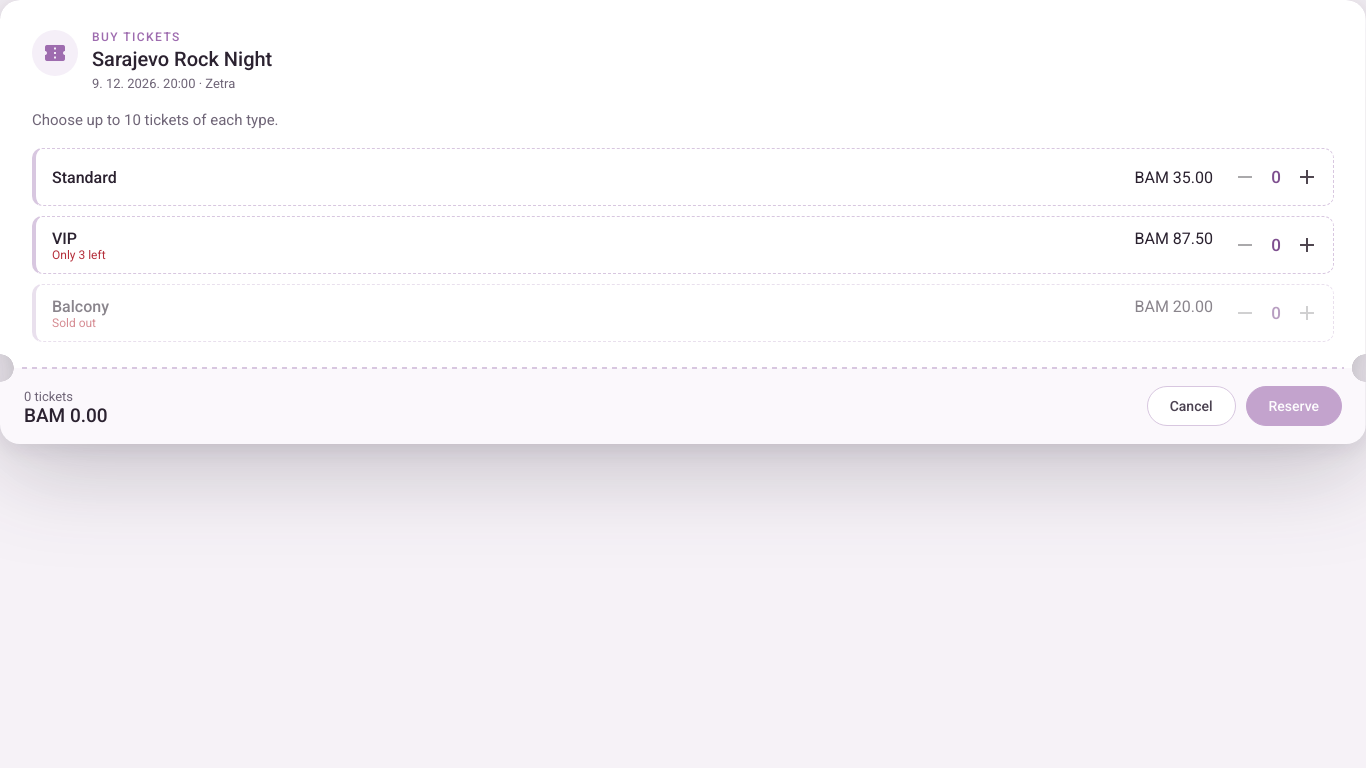
Test: BuyTicketsDialogComponent › shows a refusal, reloads the availability and trims the quantity to it
Click the button named "More VIP tickets" at (1307, 245), box [1287,225,1327,265]
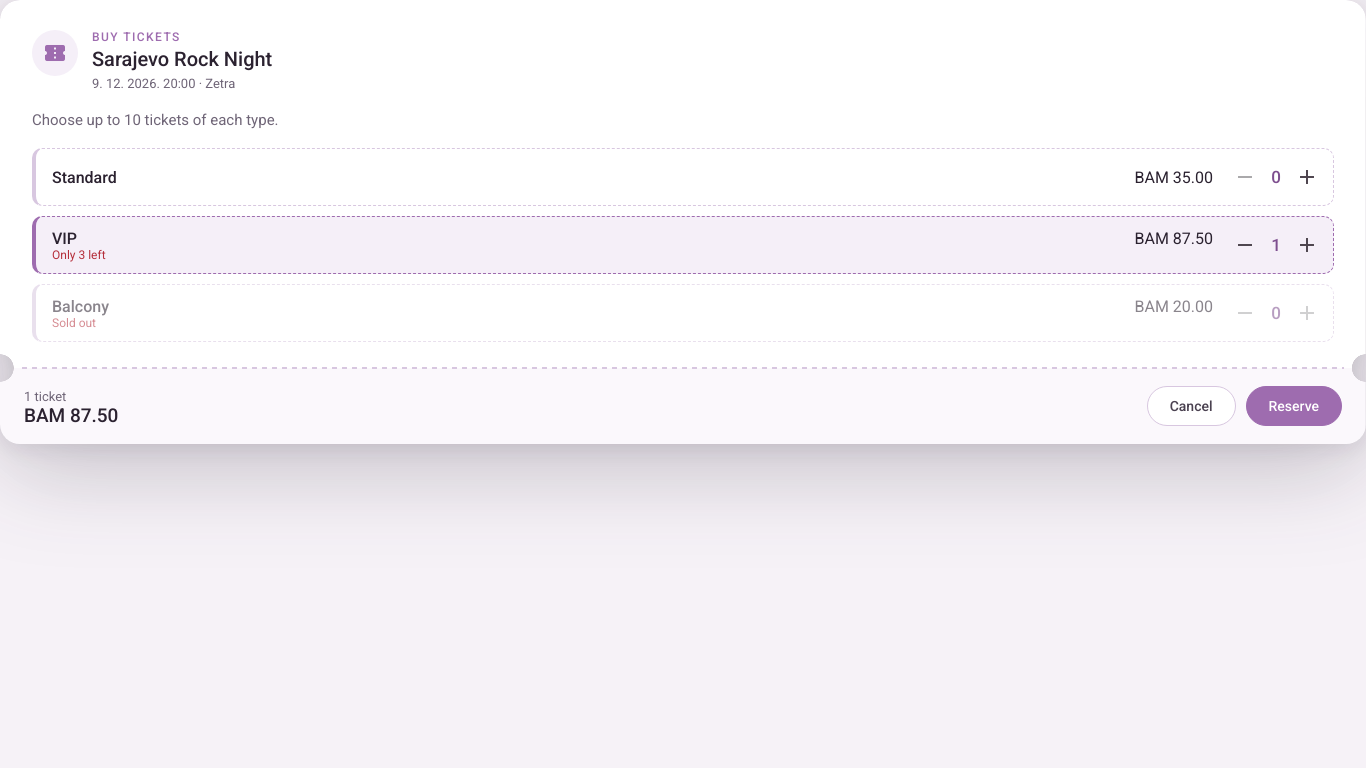
Click the button named "More VIP tickets" at (1307, 245), box [1287,225,1327,265]
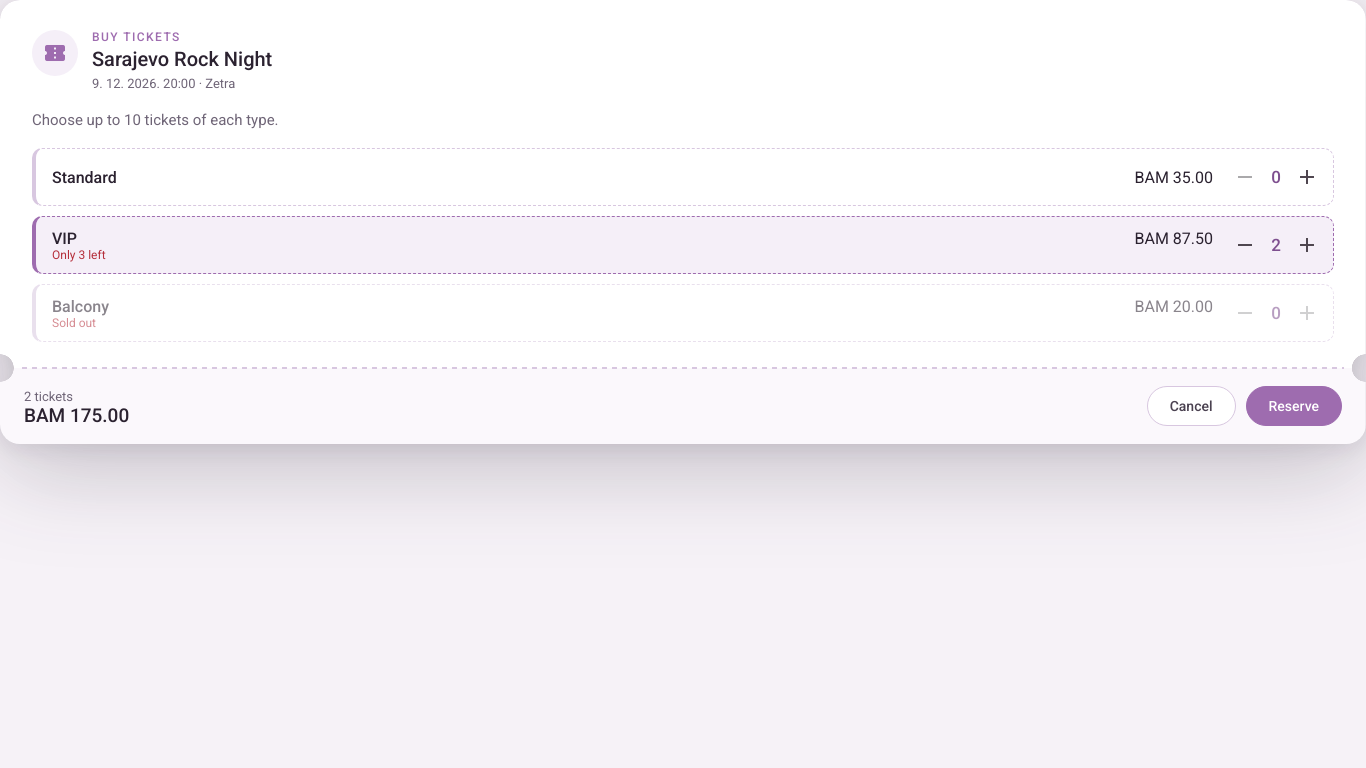
Click the button named "More VIP tickets" at (1307, 245), box [1287,225,1327,265]
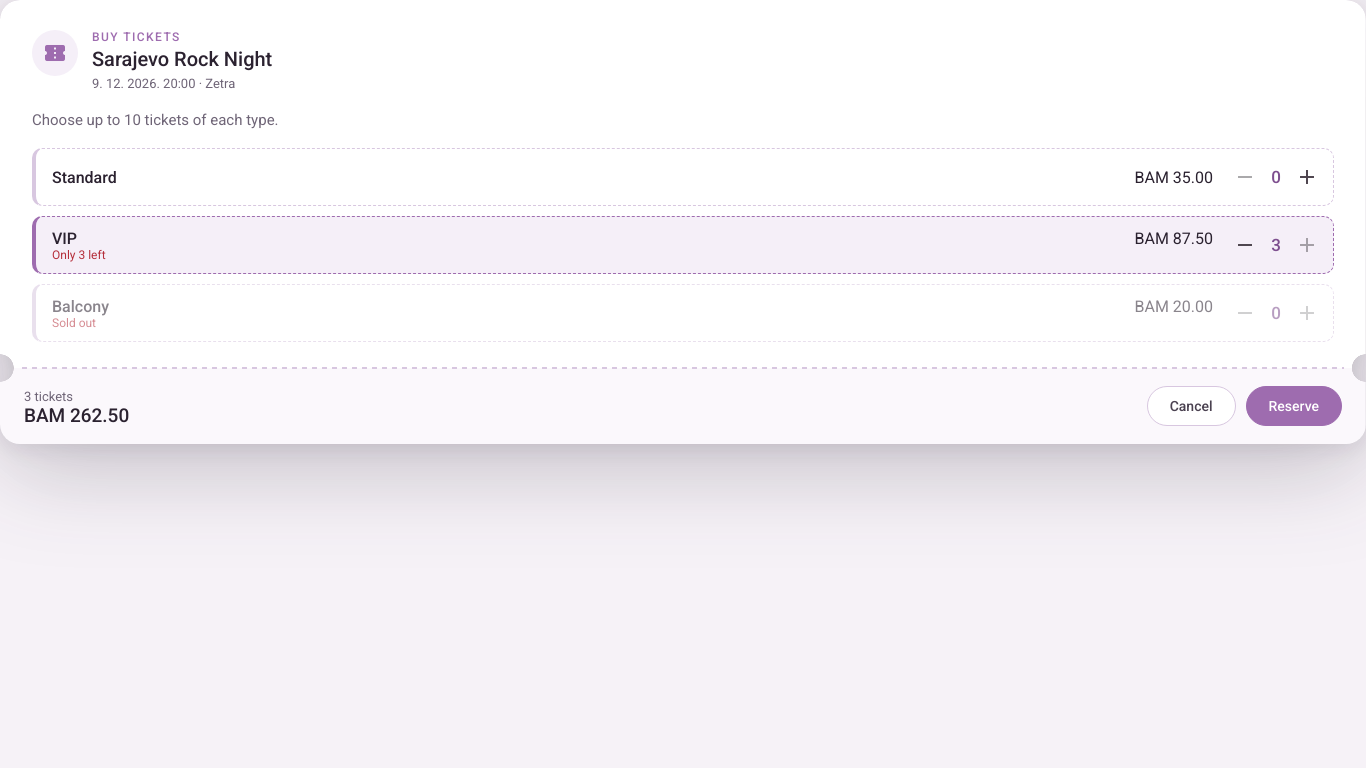
Click the button with class "ticket__button--confirm" at (1294, 406), box [1246,386,1342,426]
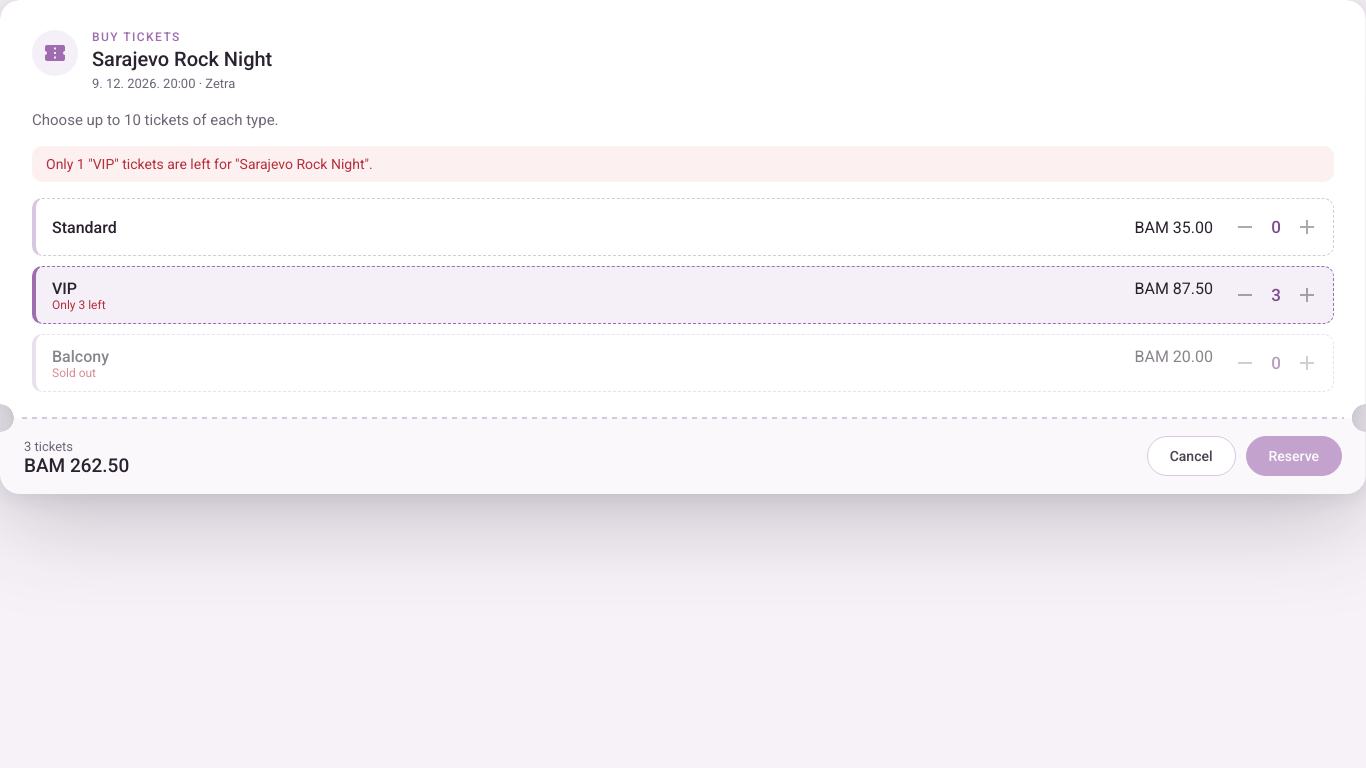
Result: the message with class "buy__refusal" shows "Only 1 \"VIP\" tickets are left" at [46,156,373,172]
